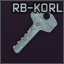RB-KORL key: (0, 0, 64, 64)
